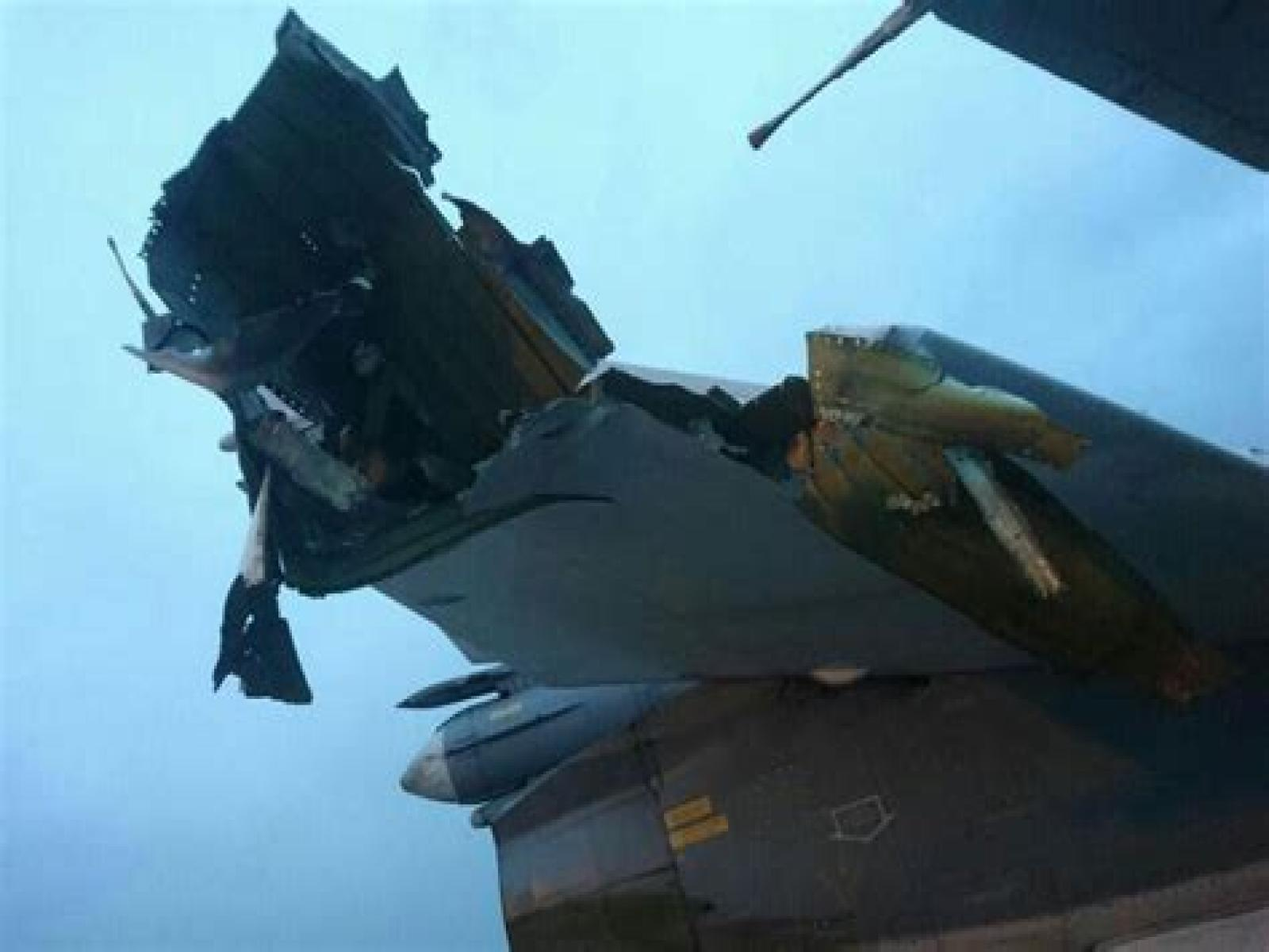Wing_damage: (207, 328, 1213, 707), (142, 12, 605, 488)
